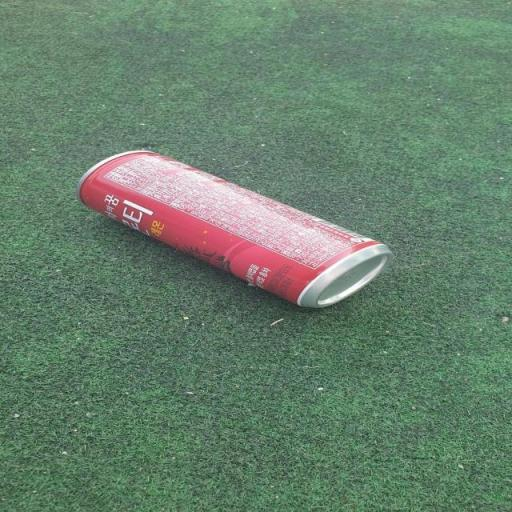metal: (50, 135, 446, 341)
